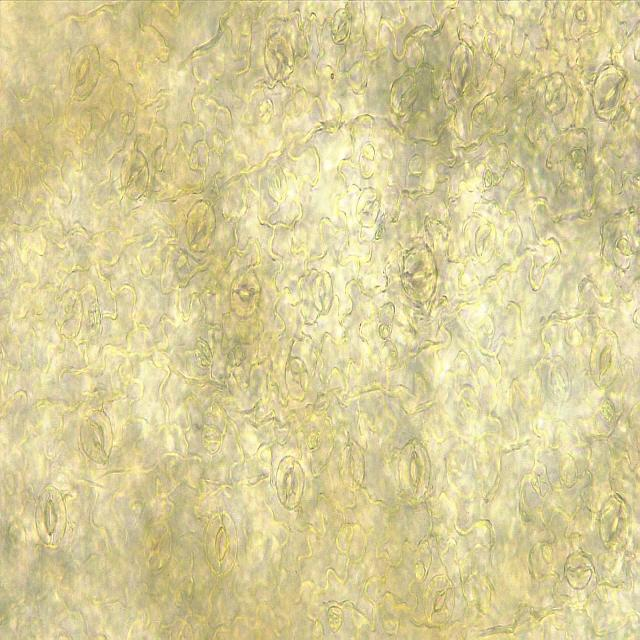Stomata: (204, 510, 239, 578), (66, 40, 101, 104), (397, 438, 432, 502), (35, 483, 68, 549), (402, 244, 438, 303), (592, 62, 627, 122), (79, 407, 114, 465), (590, 329, 622, 390), (184, 199, 218, 254), (228, 268, 262, 322), (275, 454, 306, 511), (599, 495, 631, 550), (118, 147, 150, 201), (423, 574, 456, 626), (55, 286, 86, 341), (142, 519, 172, 570), (263, 33, 295, 80), (339, 442, 365, 490), (450, 44, 474, 96), (285, 356, 309, 402), (564, 551, 593, 589), (355, 186, 381, 228), (545, 71, 568, 115), (312, 270, 333, 316), (474, 222, 497, 264), (332, 8, 352, 45), (267, 166, 287, 202)
